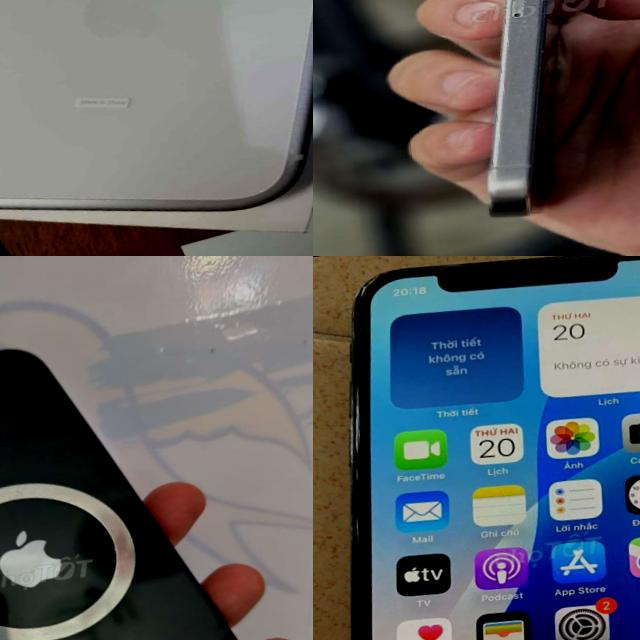gen_12_13: (0, 317, 272, 640)
gen_15: (435, 0, 616, 227)
gen_17: (0, 0, 313, 256)
gen_x_xs: (350, 256, 640, 640)
